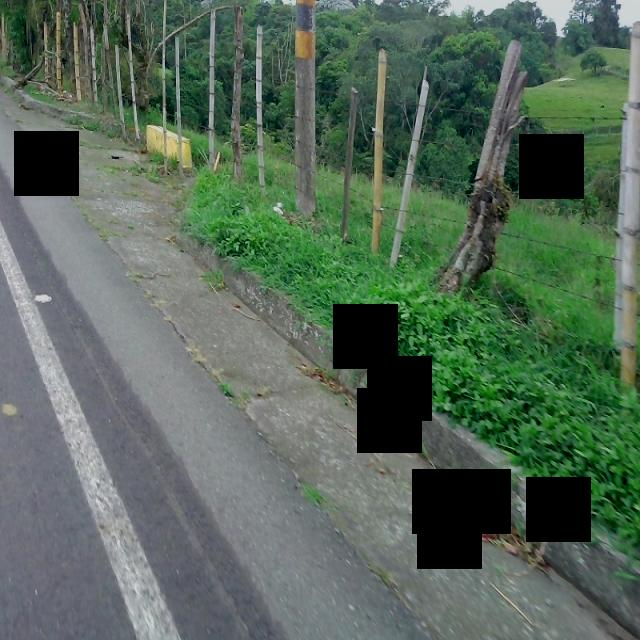DITCH: (2, 72, 636, 638)
